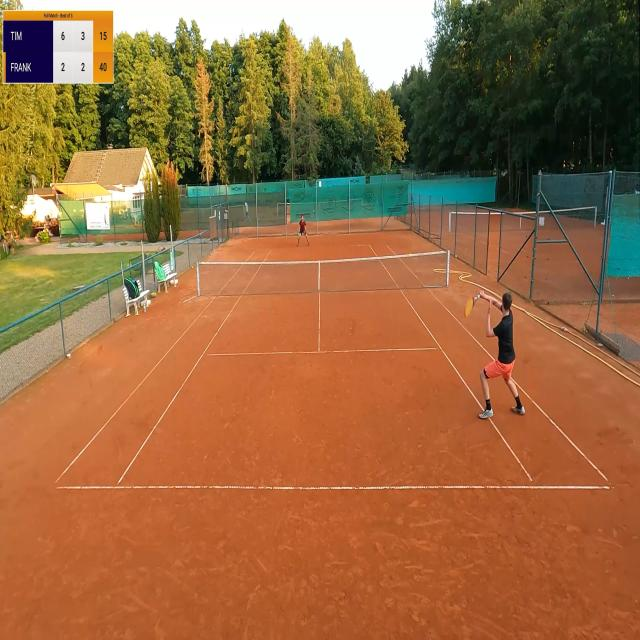tennis-player: (456, 268, 529, 417), (294, 213, 319, 252), (0, 0, 23, 11)
